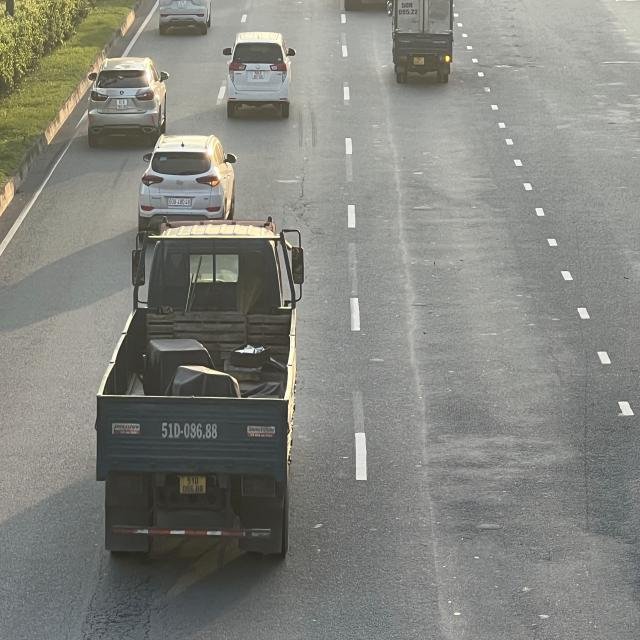car: (137, 136, 237, 232), (88, 56, 170, 140), (222, 32, 294, 116)
truck: (98, 222, 307, 564), (391, 0, 455, 80)
